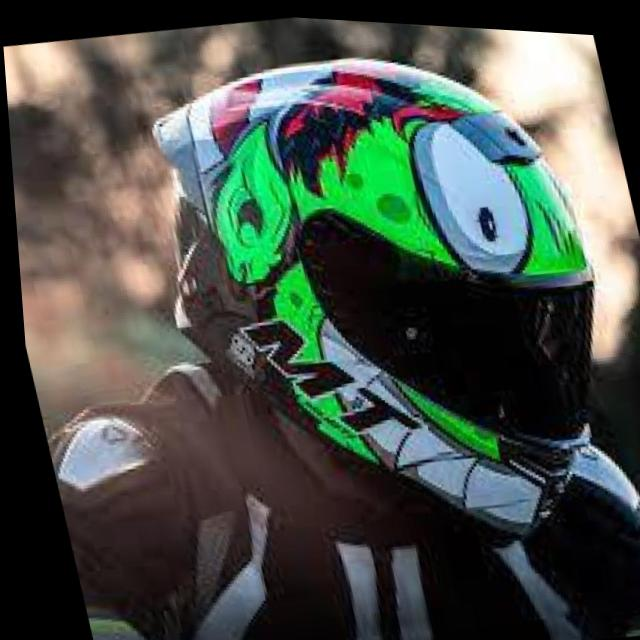helmet: (111, 11, 640, 589)
